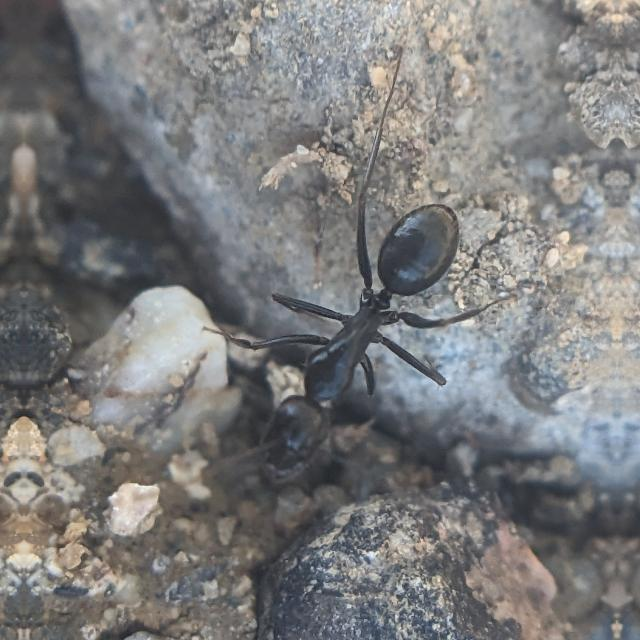Camponotus: (223, 159, 502, 506)
